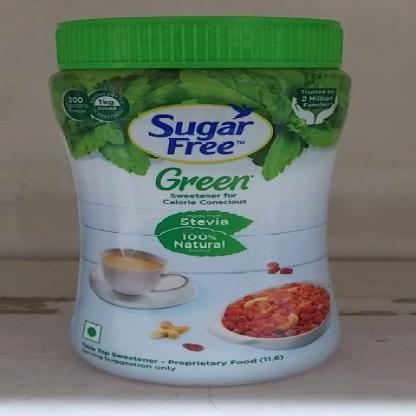SUGAR FREE_GRN_ POWDER_CONC_100G: (43, 15, 354, 388)
